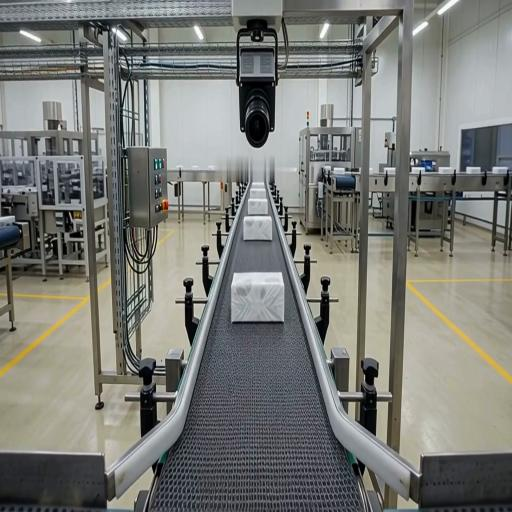good: (231, 272, 284, 324), (242, 215, 272, 241), (247, 197, 268, 215), (250, 187, 266, 199), (466, 166, 481, 174), (384, 167, 395, 177), (492, 166, 507, 173), (250, 182, 265, 188)
